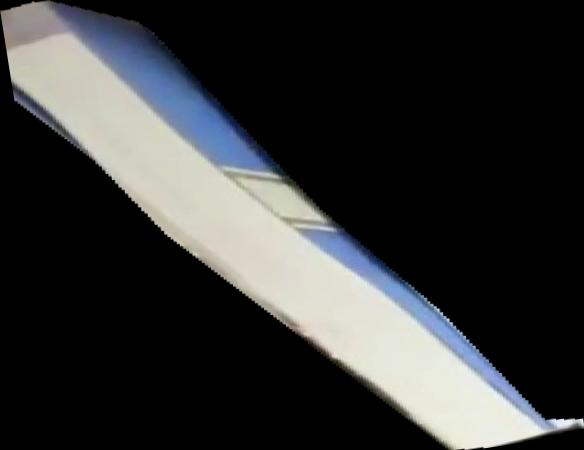backward: (1, 1, 584, 450)
